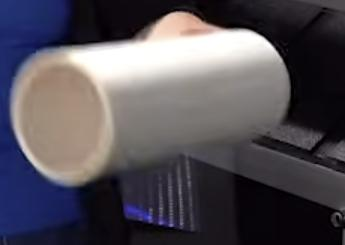coral: (9, 29, 290, 187)
